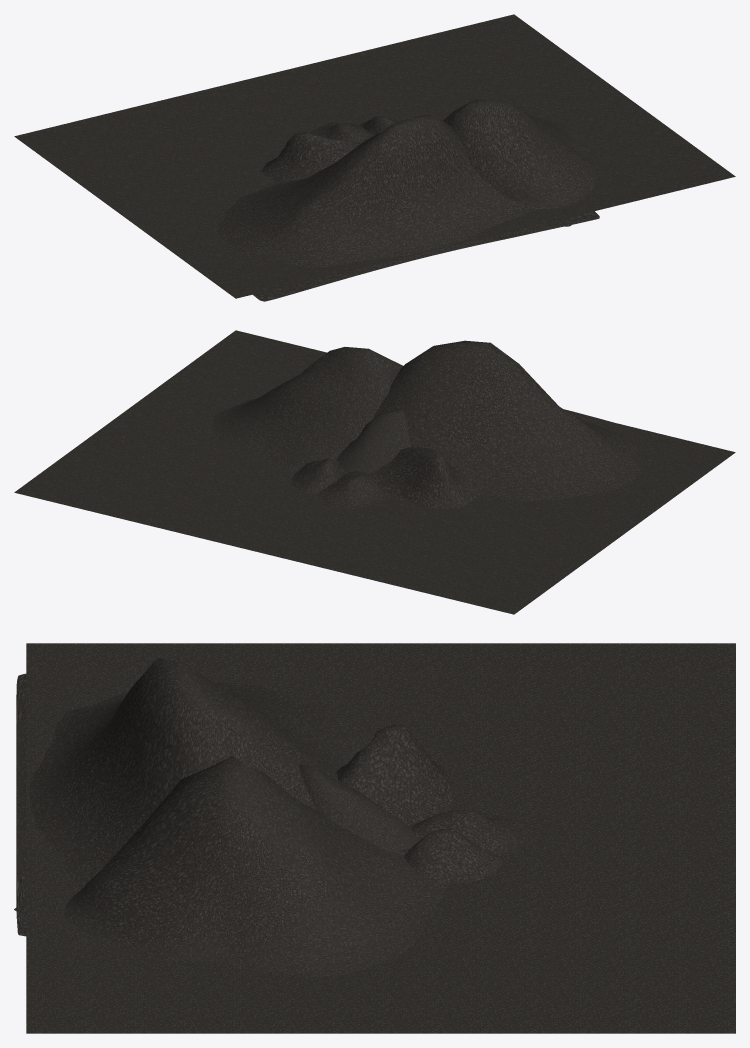
File: coal dump (1).glb
3 renders of one model, top to bottom at view 1: azimuth 30°, elevation 25°; view 2: azimuth 150°, elevation 25°; view 3: azimuth 270°, elevation 25°, orthographic. The views are drawn at different scales.
Parts seen in each view (by area): view 1: Plane.005, Plane.006, Plane.001, Plane.003, Plane.004; view 2: Plane.005, Plane.006, Plane.001, Plane.003, Plane.002, Plane.004, Plane; view 3: Plane.005, Plane.001, Plane.006, Plane.003, Plane.002, Plane, Plane.004.
Part boxes in pixels (x1,y1,x2,y2): Plane.005: (14, 14, 735, 298); Plane.006: (217, 114, 599, 301); Plane.001: (443, 99, 596, 226); Plane.003: (261, 132, 360, 184); Plane.004: (309, 122, 373, 143); Plane.005: (14, 330, 735, 614); Plane.006: (374, 340, 643, 501); Plane.001: (212, 347, 402, 473); Plane.003: (335, 447, 481, 508); Plane.002: (336, 410, 411, 474); Plane.004: (316, 471, 388, 508); Plane: (291, 458, 343, 493); Plane.005: (26, 643, 735, 1033); Plane.001: (14, 755, 448, 977); Plane.006: (16, 658, 363, 936); Plane.003: (336, 725, 452, 852); Plane.002: (299, 764, 419, 855); Plane: (404, 828, 501, 884); Plane.004: (411, 809, 528, 855).
Bounding box in the file's own units: 6.61 × 1.28 × 5.16.
Materials: 2 (2 with a texture image).
